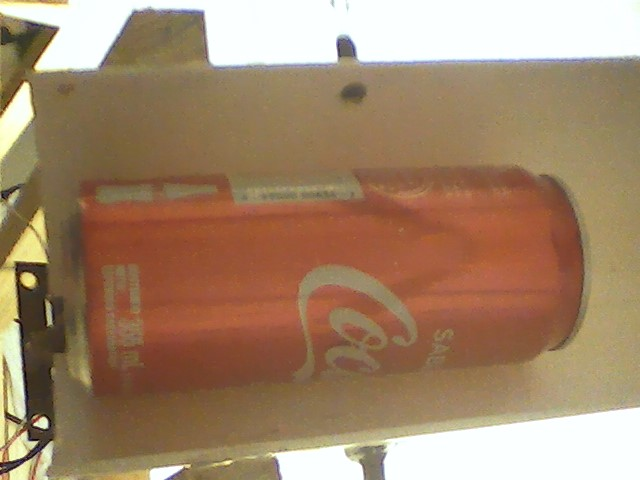lata: (59, 162, 594, 397)
